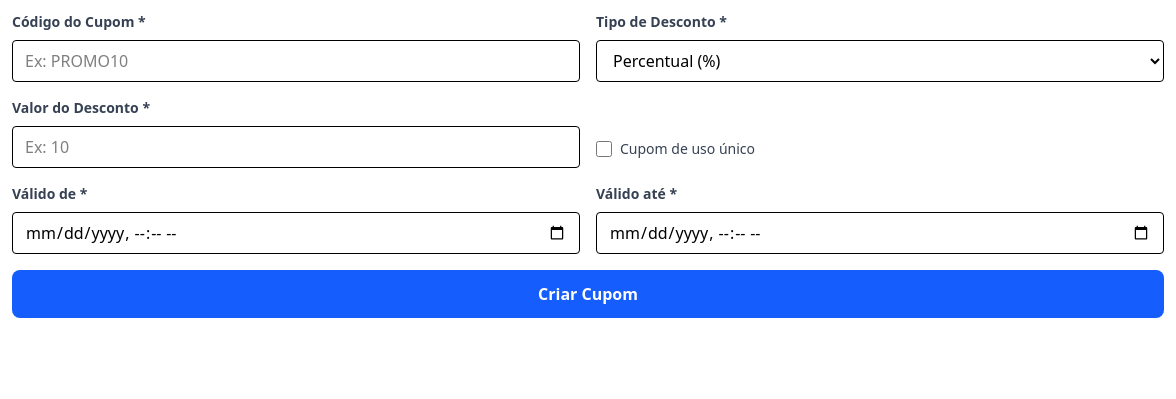
CouponForm › should handle API error on submit
Type "EXISTING" into the field labelled "Código do Cupom *".
click(296, 61); type("EXISTING")  # box left=12, top=40, right=580, bottom=82
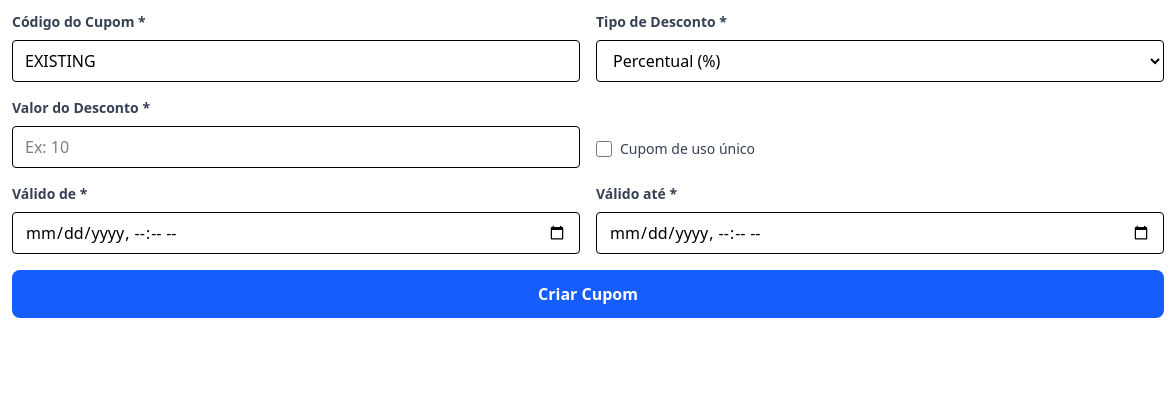
Type "10" into the number field labelled "Valor do Desconto *".
click(296, 147); type("10")  # box left=12, top=126, right=580, bottom=168
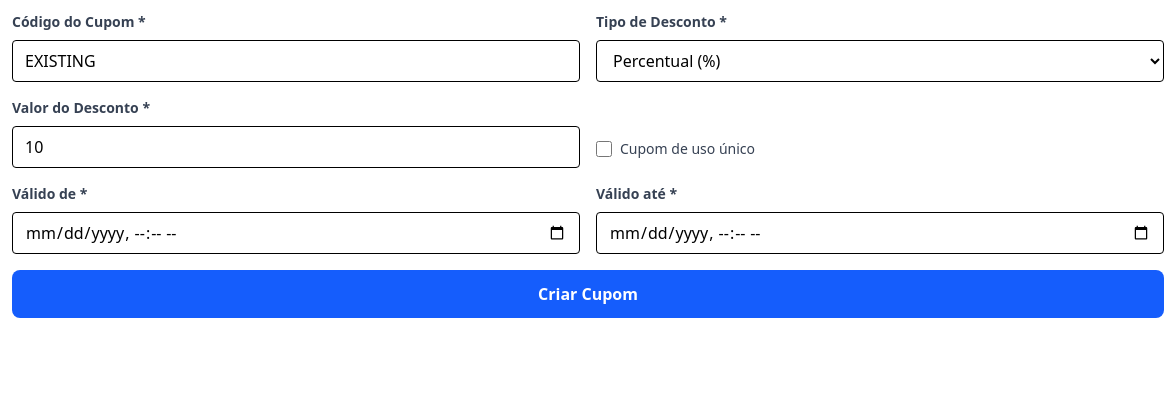
Type "2025-01-01T00:00" into the field labelled "Válido de *".
click(296, 233); type("2025-01-01T00:00")  # box left=12, top=212, right=580, bottom=254
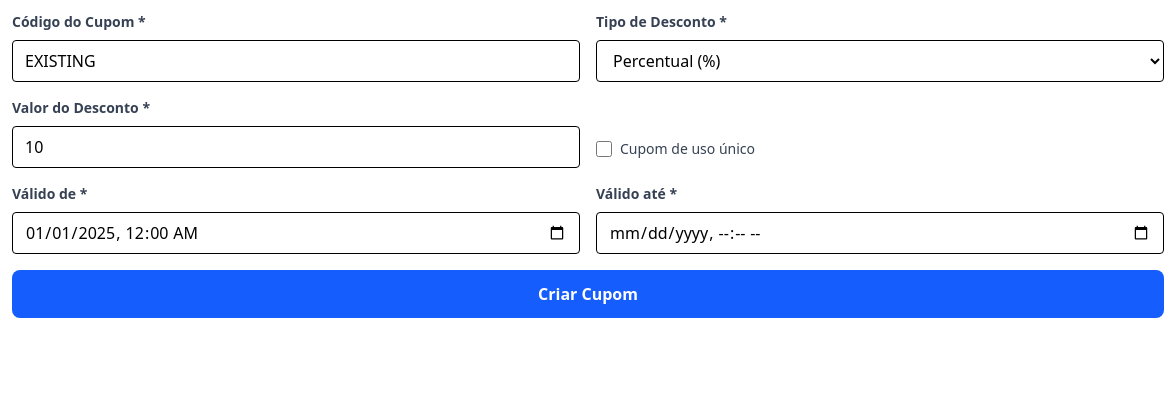
Type "2025-12-31T23:59" into the field labelled "Válido até *".
click(880, 233); type("2025-12-31T23:59")  # box left=596, top=212, right=1164, bottom=254
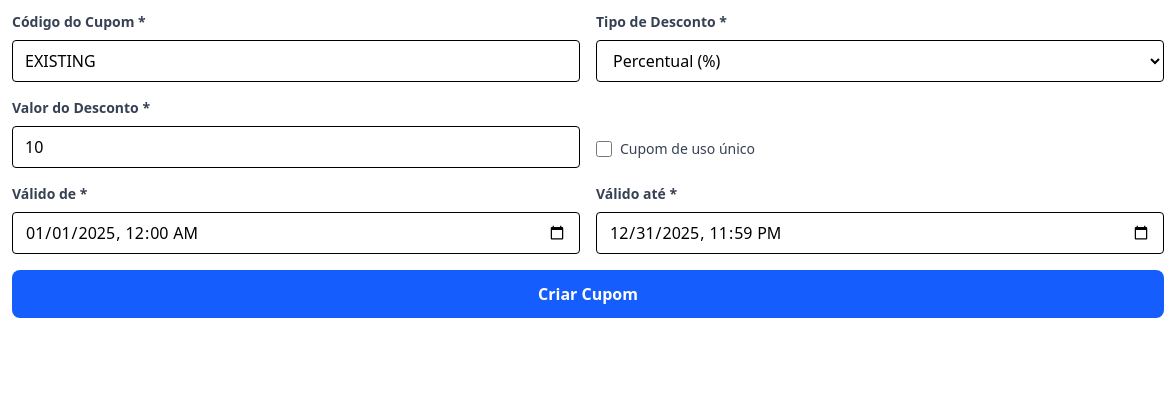
Click the button "Criar Cupom".
click(588, 294)  # box left=12, top=270, right=1164, bottom=318
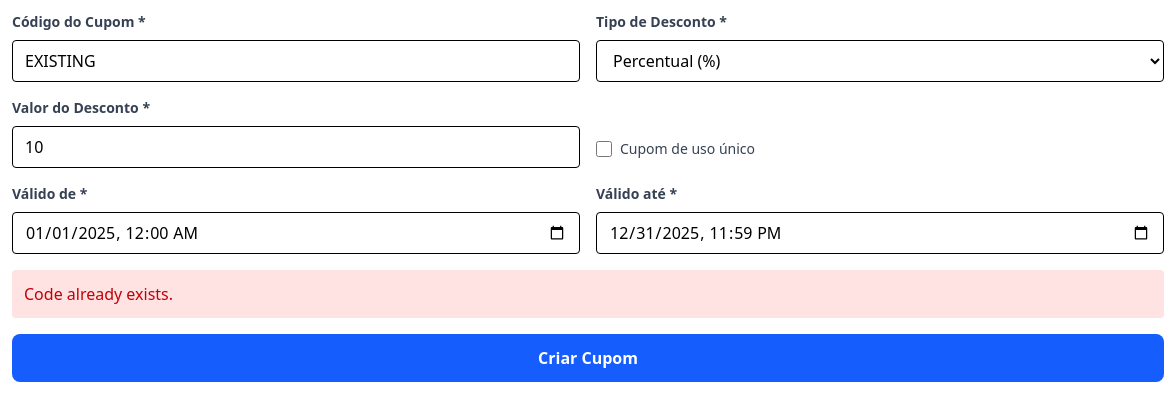
Expected: the text "Code already exists." is shown, left=12, top=270, right=1164, bottom=318
